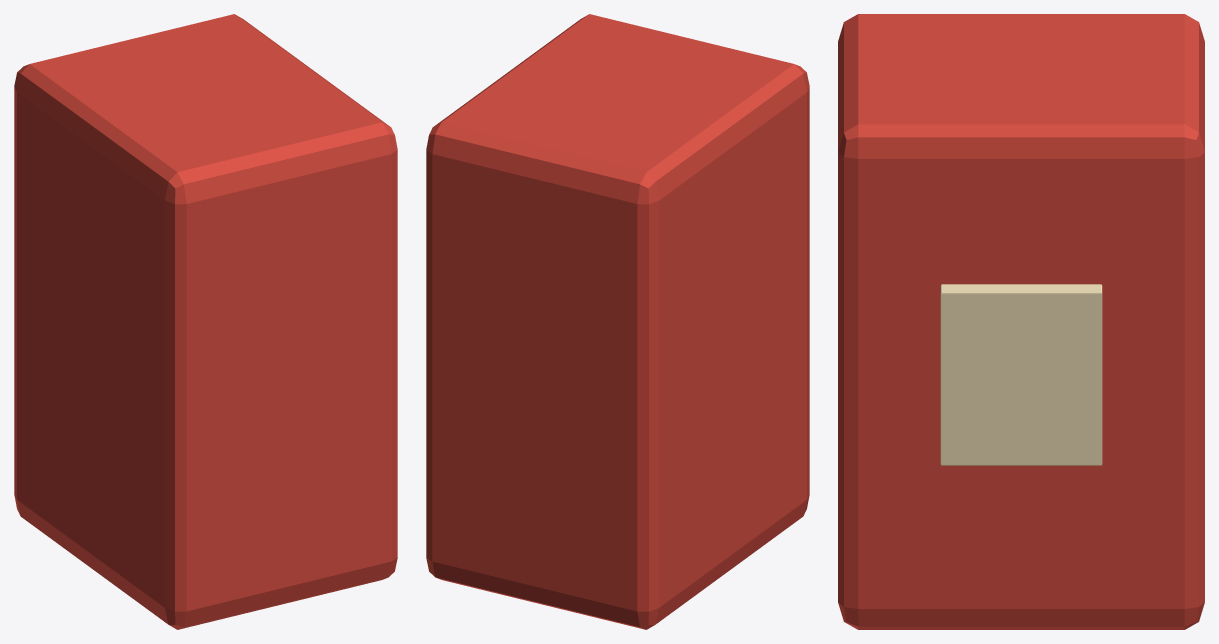
File: snacks_item.glb
3 views of the same model, side by side, from view 1: azimuth 30°, elevation 25°; view 2: azimuth 150°, elevation 25°; view 3: azimuth 270°, elevation 25° (orthographic). The views are drawn at different scales.
Visible parts, largest first — view 1: Potato chips bag.072; view 2: Potato chips bag.072; view 3: Potato chips bag.072, Bag front label.072.
Part boxes in pixels (x1,y1,x2,y2): Potato chips bag.072: [14, 14, 397, 629]; Potato chips bag.072: [426, 14, 809, 629]; Potato chips bag.072: [838, 14, 1204, 629]; Bag front label.072: [940, 284, 1102, 465].
Size of the model in its own units: 0.2365 by 0.42 by 0.2763.
